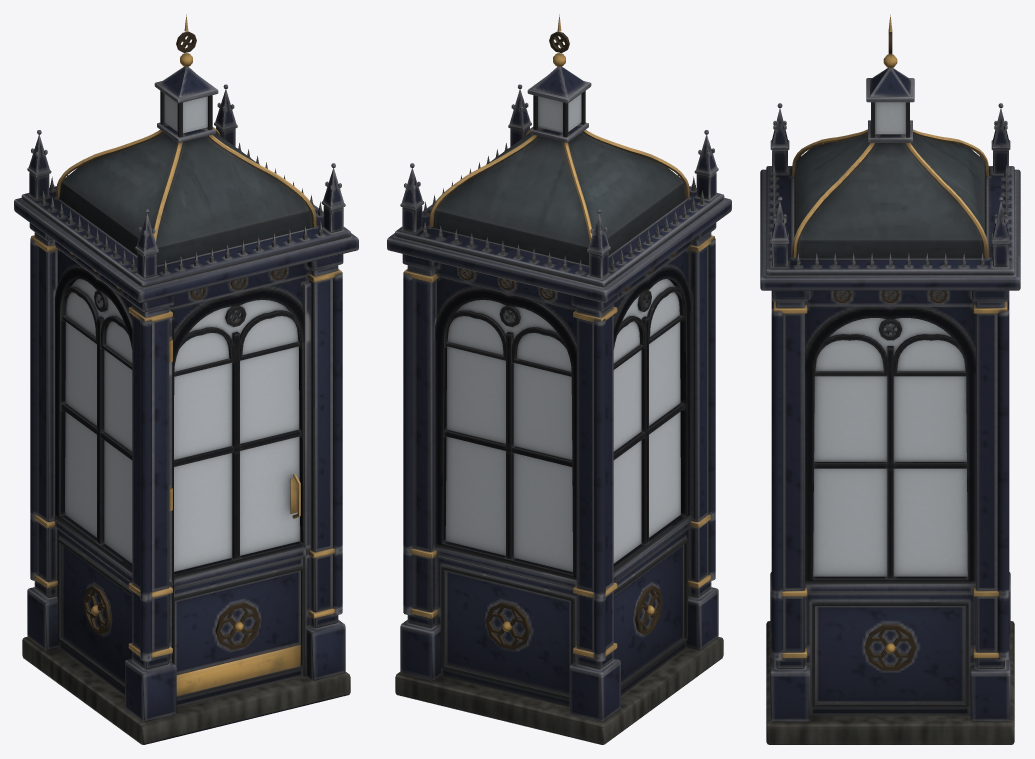
Rendered from TelephoneBooth.fbx.
3 renders of one model, left to right at view 1: azimuth 30°, elevation 25°; view 2: azimuth 150°, elevation 25°; view 3: azimuth 270°, elevation 25°, orthographic. The views are drawn at different scales.
Parts seen in each view (by area): view 1: TelephoneBooth_Main, TelephoneBooth_Glass, TelephoneBooth_Roof; view 2: TelephoneBooth_Main, TelephoneBooth_Glass, TelephoneBooth_Roof; view 3: TelephoneBooth_Main, TelephoneBooth_Roof, TelephoneBooth_Glass.
Boxes of the visible parts, x1,y1,x2,y2 form: TelephoneBooth_Main: (22, 223, 350, 744); TelephoneBooth_Glass: (65, 94, 300, 571); TelephoneBooth_Roof: (14, 14, 358, 302); TelephoneBooth_Main: (395, 223, 723, 744); TelephoneBooth_Glass: (445, 94, 680, 572); TelephoneBooth_Roof: (387, 14, 731, 302); TelephoneBooth_Main: (766, 290, 1014, 744); TelephoneBooth_Roof: (760, 14, 1020, 290); TelephoneBooth_Glass: (813, 102, 967, 576).
Size of the model in its own units: 325 by 937 by 325.
